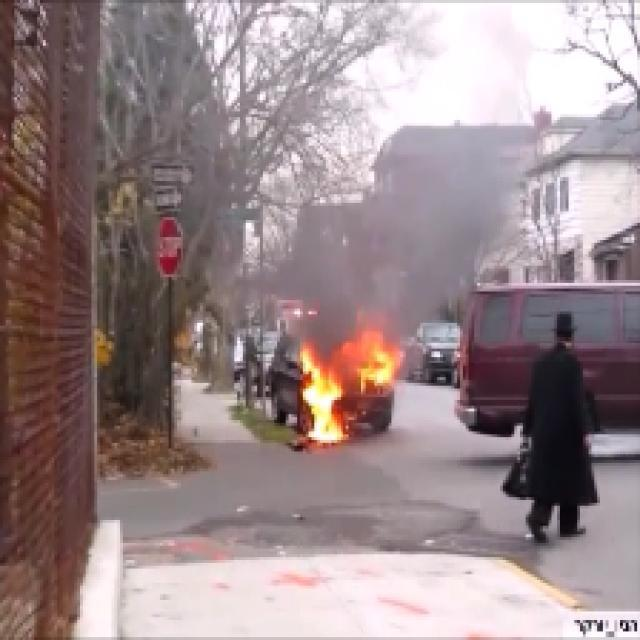Fire: (300, 342, 402, 450)
Smoke: (305, 137, 503, 336)
